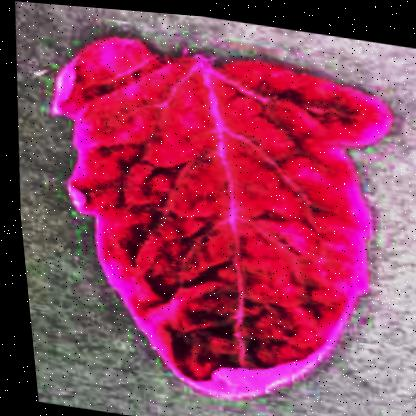Virus: (19, 20, 415, 415)
